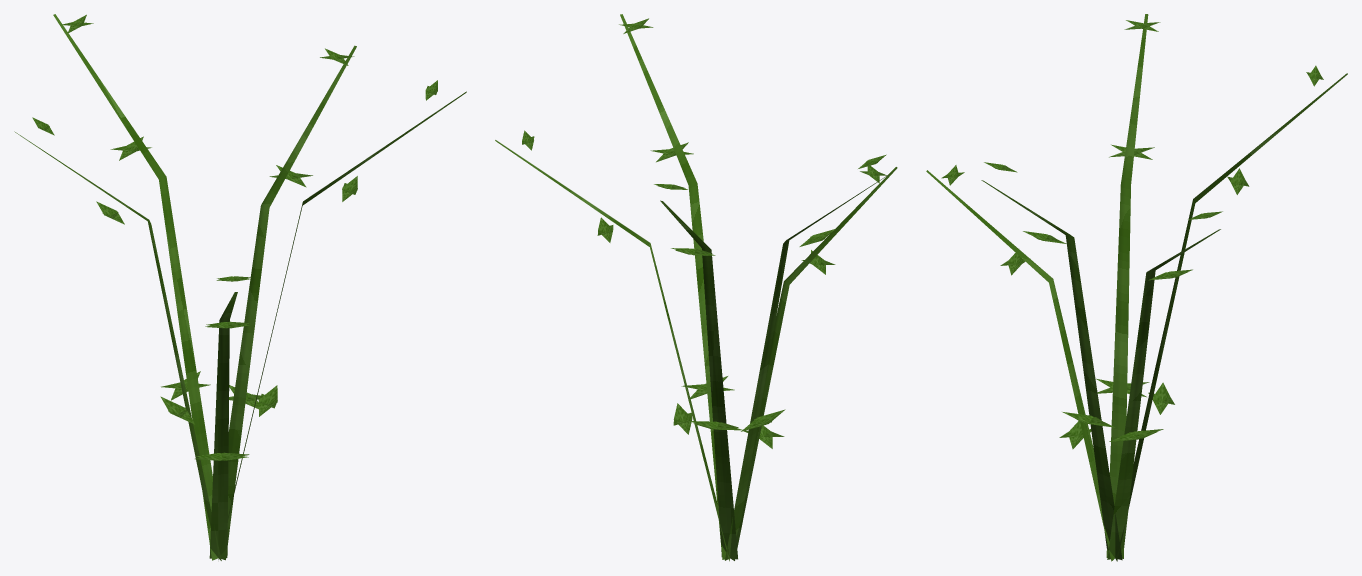
The model's file is fern02-lod1.glb.
3 views of the same model, side by side, from view 1: azimuth 30°, elevation 25°; view 2: azimuth 150°, elevation 25°; view 3: azimuth 270°, elevation 25° (orthographic). The views are drawn at different scales.
Parts seen in each view (by area): view 1: TZ_ground_plant_Batch_00_LOD1; view 2: TZ_ground_plant_Batch_00_LOD1; view 3: TZ_ground_plant_Batch_00_LOD1.
Boxes of the visible parts, <box> form: TZ_ground_plant_Batch_00_LOD1: <box>14,14,466,560</box>; TZ_ground_plant_Batch_00_LOD1: <box>495,14,897,561</box>; TZ_ground_plant_Batch_00_LOD1: <box>926,14,1347,561</box>.
Size of the model in its own units: 0.6009 by 0.72 by 0.5874.
1 material, 1 textured.
